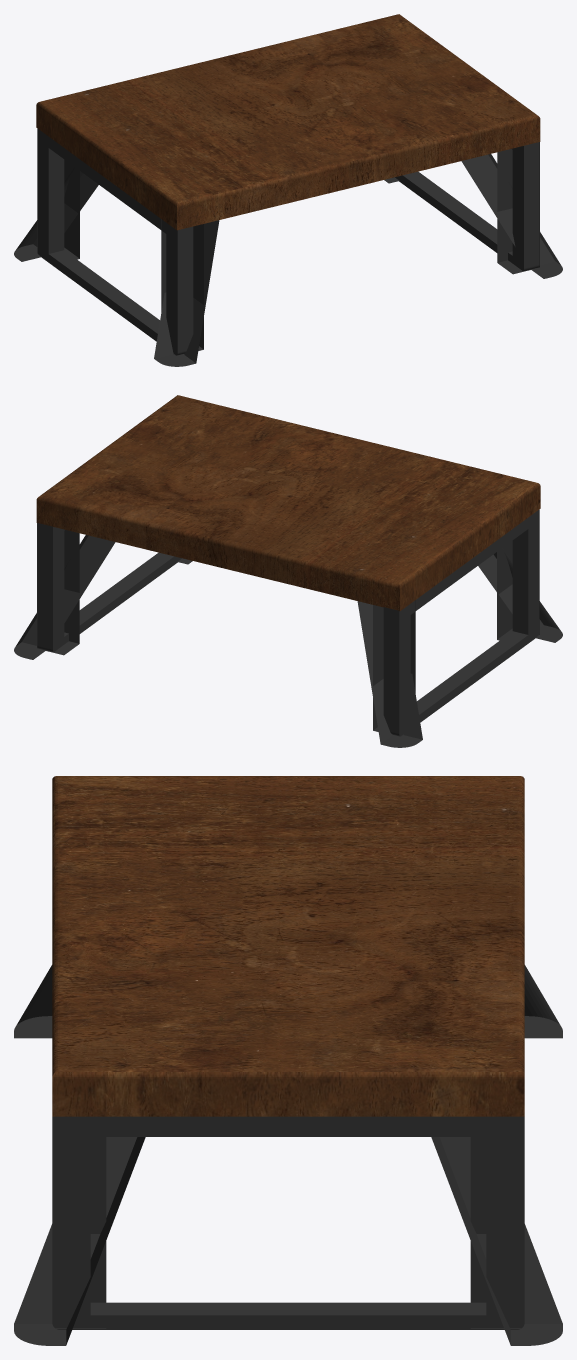
File: table.glb
3 renders of one model, top to bottom at view 1: azimuth 30°, elevation 25°; view 2: azimuth 150°, elevation 25°; view 3: azimuth 270°, elevation 25°, orthographic. The views are drawn at different scales.
Visible parts, largest first — view 1: Plate, Legs02Left, Legs02Right, Legs03Left, Legs01Left, Legs03Right, Legs01Right; view 2: Plate, Legs02Left, Legs02Right, Legs03Left, Legs01Left, Legs03Right, Legs01Right; view 3: Plate, Legs02Right, Legs03Right, Legs01Right, Legs03Left.
Boxes of the visible parts, left/top/right/bottom form: Plate: left=36, top=14, right=540, bottom=230; Legs02Left: left=37, top=129, right=193, bottom=355; Legs02Right: left=395, top=142, right=539, bottom=271; Legs03Left: left=14, top=167, right=219, bottom=366; Legs01Left: left=37, top=128, right=203, bottom=356; Legs03Right: left=461, top=154, right=562, bottom=278; Legs01Right: left=384, top=142, right=539, bottom=274; Plate: left=36, top=395, right=540, bottom=611; Legs02Left: left=383, top=510, right=539, bottom=736; Legs02Right: left=37, top=523, right=181, bottom=652; Legs03Left: left=357, top=548, right=562, bottom=747; Legs01Left: left=373, top=509, right=539, bottom=737; Legs03Right: left=14, top=535, right=115, bottom=659; Legs01Right: left=37, top=523, right=192, bottom=655; Plate: left=52, top=776, right=524, bottom=1116; Legs02Right: left=52, top=1116, right=524, bottom=1329; Legs03Right: left=14, top=1137, right=562, bottom=1345; Legs01Right: left=53, top=1137, right=523, bottom=1328; Legs03Left: left=14, top=965, right=562, bottom=1038.
Bounding box in the file's own units: 3.3 × 1.21 × 2.32.
Materials: 2 (1 with a texture image).
